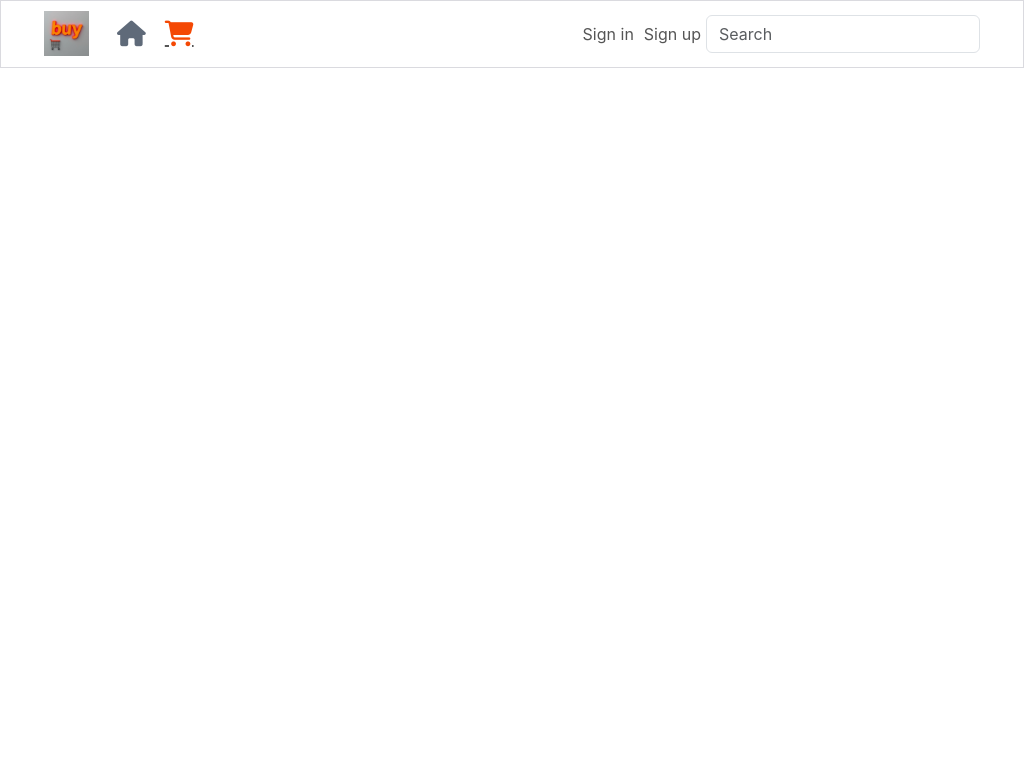
Test NavBar › Test render sign in link and when click render sign in page
The width and height of the screenshot is (1024, 768).
Step 1. Click the link with test id "signin-link" → (608, 34), box [583,24,634,44]
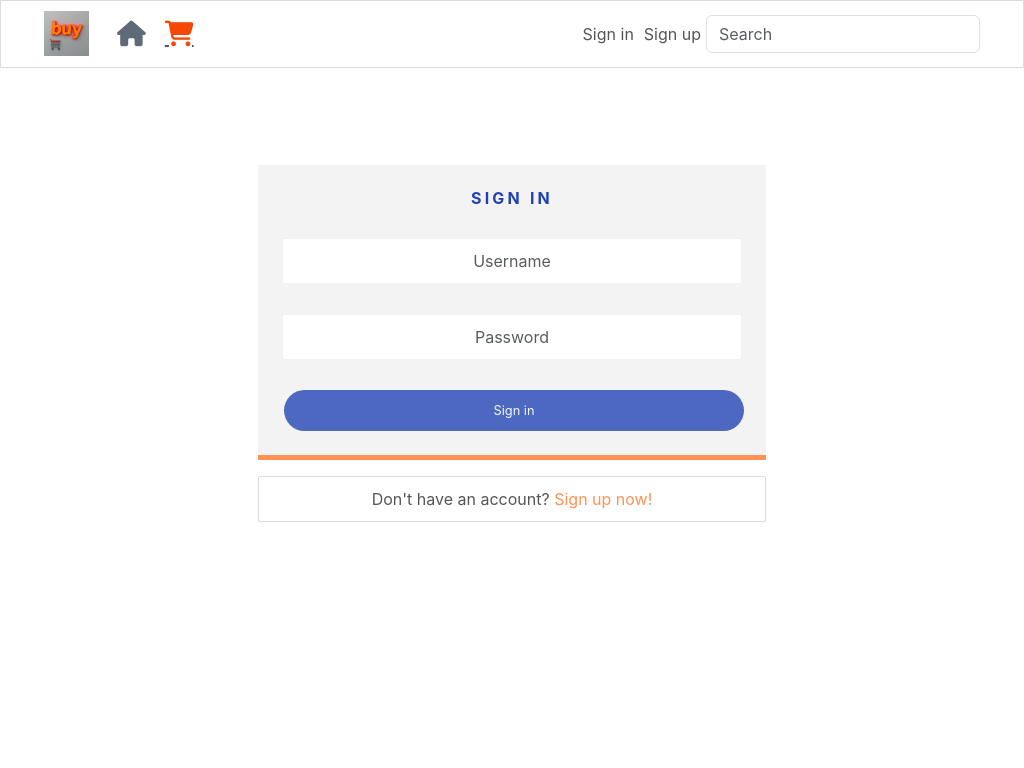
Expected: the element with test id "signin-page" is shown, [258,165,766,522]
